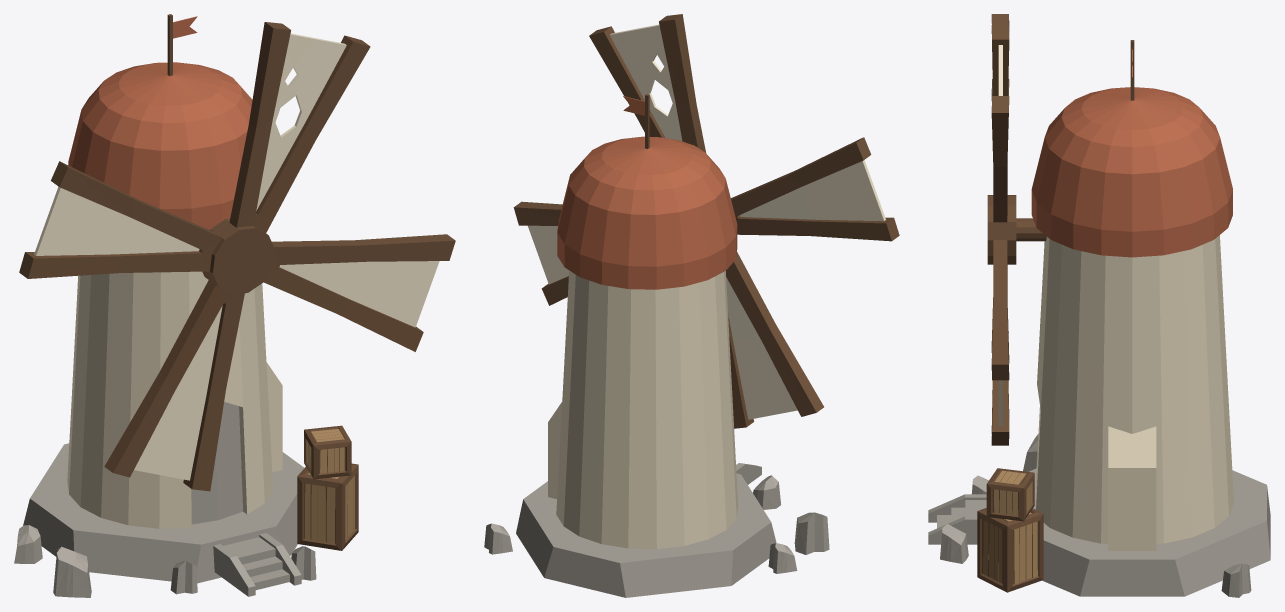
File: windmill.glb
3 views of the same model, side by side, from view 1: azimuth 30°, elevation 25°; view 2: azimuth 150°, elevation 25°; view 3: azimuth 270°, elevation 25° (orthographic). The views are drawn at different scales.
Visible parts, largest first — view 1: windmill; view 2: windmill; view 3: windmill.
Boxes of the visible parts, left/top/right/bottom form: windmill: left=14, top=14, right=455, bottom=597; windmill: left=484, top=14, right=899, bottom=597; windmill: left=928, top=14, right=1270, bottom=597.
Size of the model in its own units: 11.61 by 14 by 8.19.
